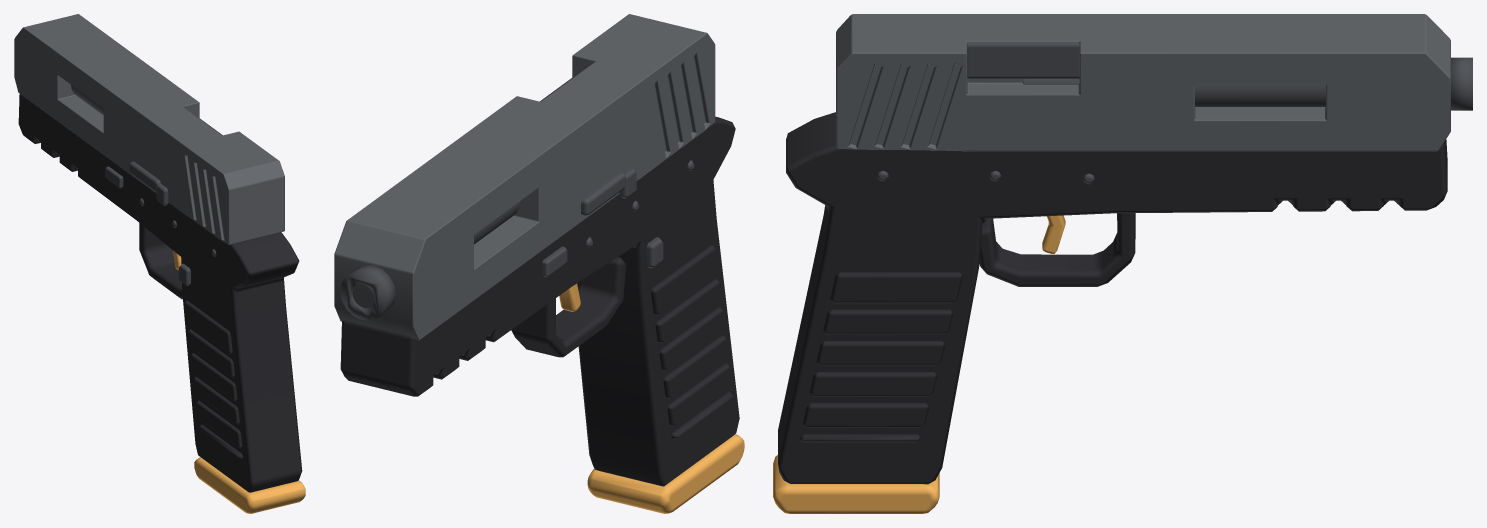
3 renders of one model, left to right at view 1: azimuth 30°, elevation 25°; view 2: azimuth 150°, elevation 25°; view 3: azimuth 270°, elevation 25°, orthographic. The views are drawn at different scales.
Parts seen in each view (by area): view 1: slide, frame, grippanel, mag.008, tguardp9, slidestop; view 2: slide, frame, grippanel, tguardp9, mag.008, crownp9, slidestop, barrelp9, takedown; view 3: slide, frame, grippanel, tguardp9, mag.008, barrelhood, barrelp9, crownp9.
Boxes of the visible parts, x1,y1,x2,y2 form: slide: (14,14,284,244); frame: (18,94,302,492); grippanel: (184,300,243,459); mag.008: (194,457,305,513); tguardp9: (139,223,182,299); slidestop: (129,161,160,191); slide: (334,14,715,340); frame: (340,116,739,486); grippanel: (651,245,733,439); tguardp9: (511,257,625,357); mag.008: (587,434,744,513); crownp9: (340,265,395,320); slidestop: (581,172,625,215); barrelp9: (352,201,520,308); takedown: (541,246,567,277); slide: (836,14,1450,151); frame: (778,112,1447,484); grippanel: (799,272,962,442); tguardp9: (979,213,1135,286); mag.008: (773,455,939,513); barrelhood: (967,42,1079,78); barrelp9: (1022,78,1325,106); crownp9: (1451,57,1472,110).
Bounding box in the file's own units: 0.0336 × 0.164 × 0.2242.
